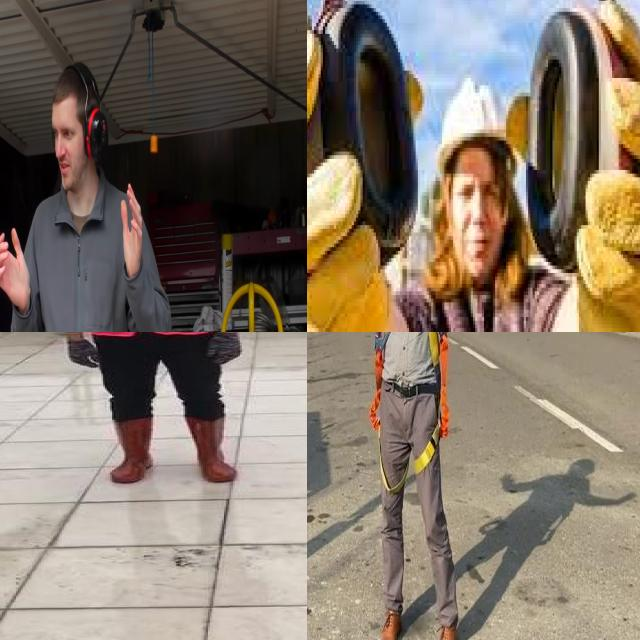Ear-protection: (307, 0, 419, 273), (519, 5, 630, 276), (55, 67, 111, 191)
Harness: (415, 332, 450, 474)
boots: (183, 416, 242, 483), (105, 414, 155, 486)
hand_glove: (307, 24, 398, 332), (561, 0, 640, 332), (64, 340, 103, 369), (204, 334, 242, 363)
head_helmet: (429, 63, 517, 152)
person: (307, 1, 640, 332), (0, 57, 174, 332), (40, 332, 250, 487)
